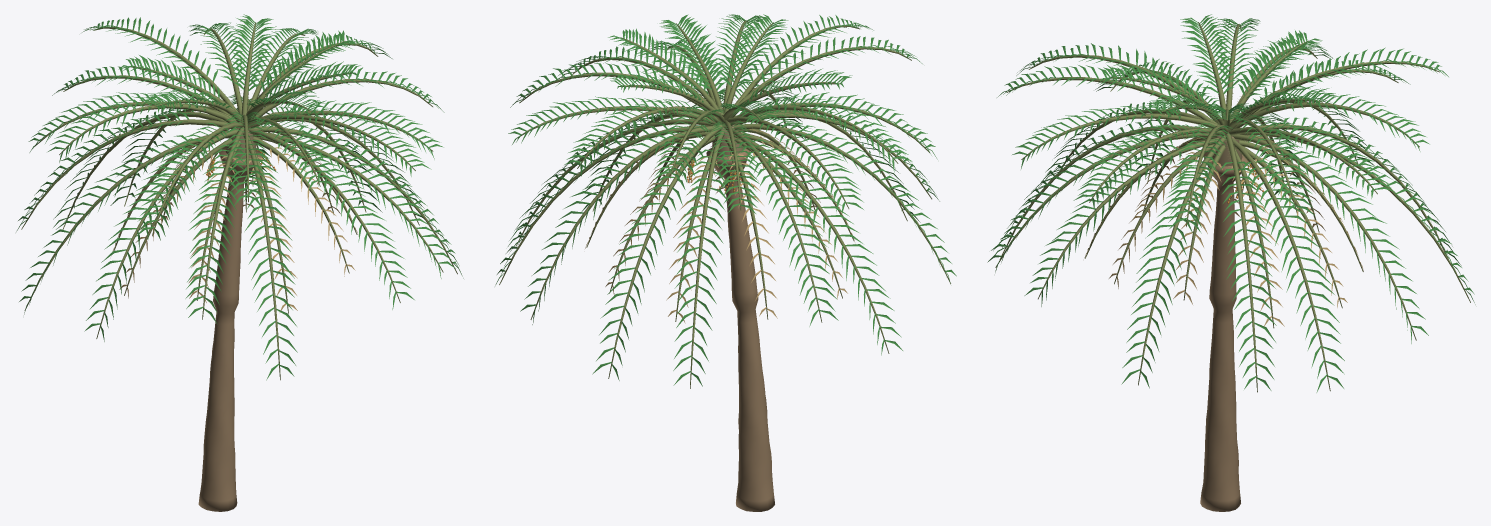
Rendered from palm_date.glb.
The picture shows the model from 3 angles, left to right: view 1: azimuth 30°, elevation 25°; view 2: azimuth 150°, elevation 25°; view 3: azimuth 270°, elevation 25°; orthographic projection. The views are drawn at different scales.
Parts seen in each view (by area): view 1: palm_date_leaf, palm_date_rachis, palm_date_trunk, palm_date_dry; view 2: palm_date_leaf, palm_date_rachis, palm_date_trunk, palm_date_dry; view 3: palm_date_leaf, palm_date_rachis, palm_date_trunk, palm_date_dry.
Boxes of the visible parts, bbox=[...] form: palm_date_leaf: bbox=[16, 14, 463, 380]; palm_date_rachis: bbox=[21, 22, 457, 380]; palm_date_trunk: bbox=[198, 146, 261, 511]; palm_date_dry: bbox=[112, 136, 358, 312]; palm_date_leaf: bbox=[495, 14, 956, 386]; palm_date_rachis: bbox=[499, 20, 950, 388]; palm_date_trunk: bbox=[706, 147, 774, 511]; palm_date_dry: bbox=[585, 129, 854, 323]; palm_date_leaf: bbox=[987, 14, 1475, 392]; palm_date_rachis: bbox=[995, 22, 1470, 392]; palm_date_trunk: bbox=[1200, 152, 1247, 511]; palm_date_dry: bbox=[1084, 136, 1363, 326].
Bounding box in the file's own units: 8.29 × 8.72 × 8.54.
